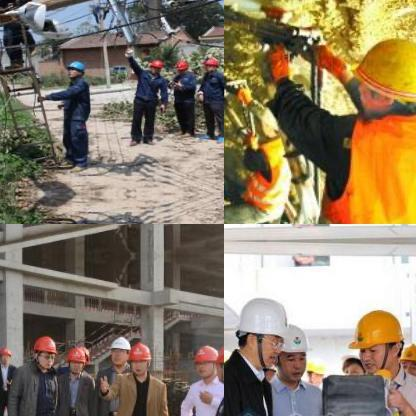Helmet: (346, 28, 415, 119), (235, 292, 288, 367), (348, 304, 400, 370), (274, 322, 308, 378), (302, 352, 330, 390), (334, 343, 362, 379), (192, 342, 219, 378), (31, 334, 57, 368), (127, 340, 151, 376), (107, 332, 129, 366), (64, 344, 88, 374), (400, 343, 415, 381), (213, 339, 223, 384), (64, 57, 84, 79), (146, 55, 162, 73), (202, 54, 218, 72), (174, 56, 188, 74), (0, 344, 12, 365)
